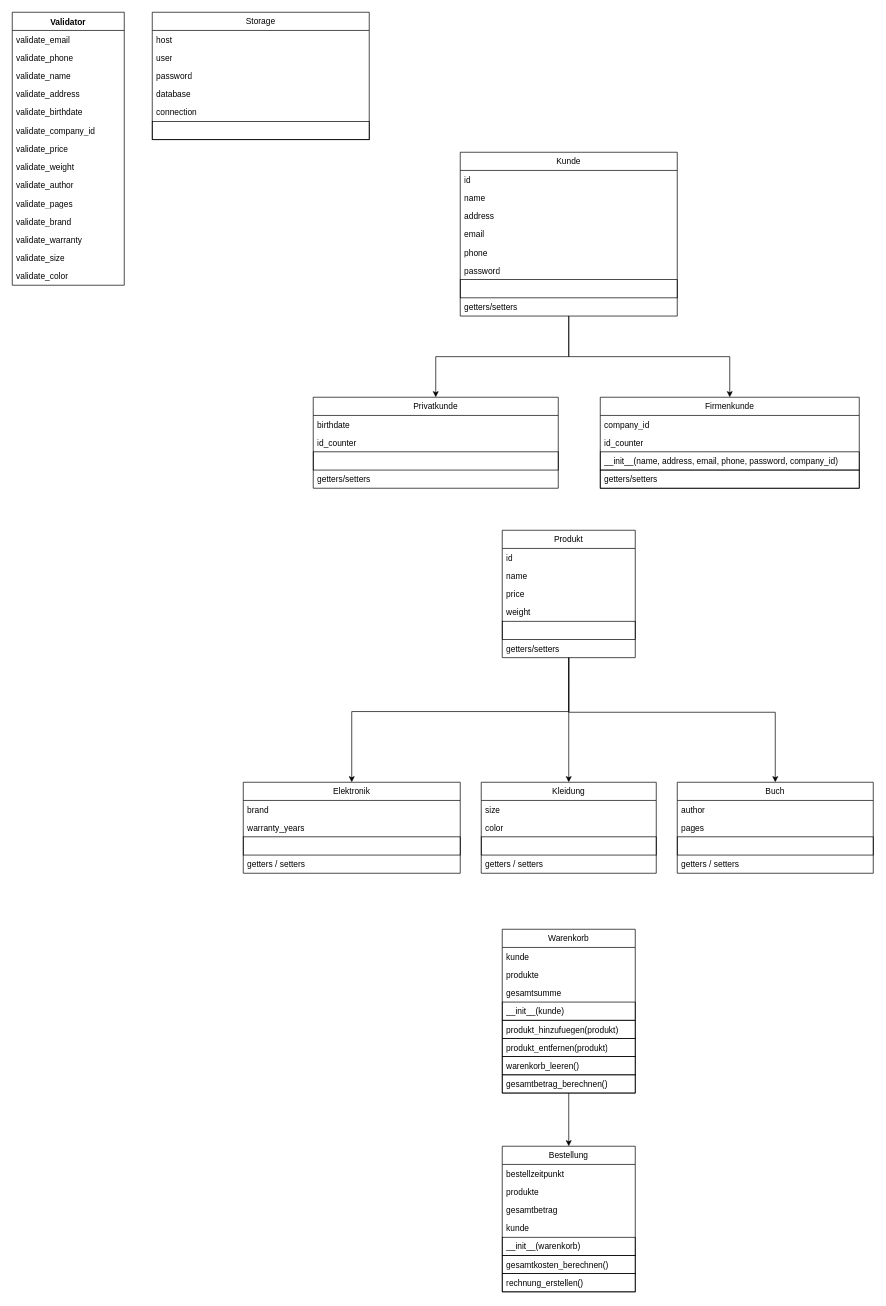
The diagram is 886 pixels wide and 1306 high, and some of its shapes have lost their labels. The centre of each missing label's shape, as x and y in pixels:
__init__(id, name, address, email, phone, password): (568,288)
__init__(id, name, price, weight): (568,630)
__init__(name, address, email, phone, password, birthdate): (435,460)
__init__(name, price, weight, author, pages): (775,845)
__init__(name, price, weight, brand, warranty_years): (351,845)
__init__(name, price, weight, size, color): (568,845)
connect/disconnect/saves/loads: (260,130)
